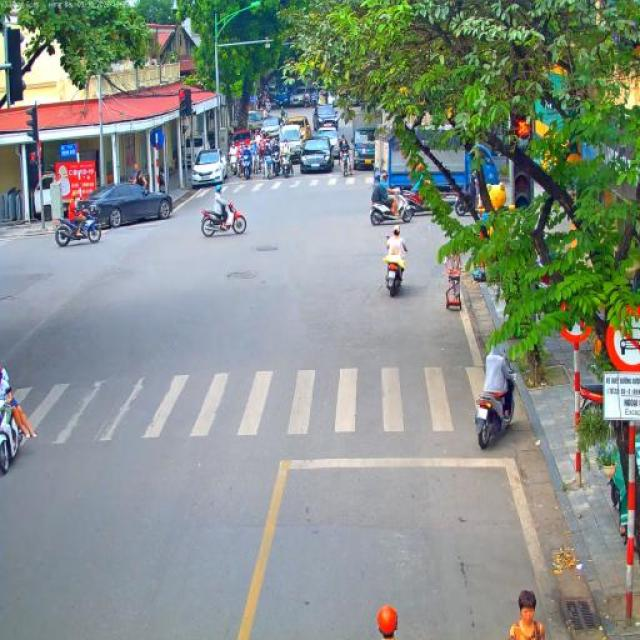car: (73, 180, 174, 230), (191, 148, 227, 187), (300, 136, 334, 174), (278, 125, 302, 160), (320, 127, 340, 164), (313, 104, 339, 131), (287, 116, 312, 140), (259, 117, 281, 142), (228, 128, 254, 148), (289, 86, 311, 109), (246, 110, 262, 130)
motorcycle: (473, 364, 518, 450), (0, 385, 25, 475), (54, 208, 104, 248), (370, 188, 418, 226), (202, 202, 248, 237), (385, 238, 407, 298), (453, 188, 481, 216), (338, 147, 352, 178), (261, 151, 274, 180), (248, 151, 260, 180), (280, 152, 292, 179), (240, 152, 250, 180), (272, 152, 282, 176), (227, 153, 237, 177), (233, 152, 242, 178)
truck: (373, 114, 499, 202), (350, 110, 384, 170), (267, 76, 289, 108)
